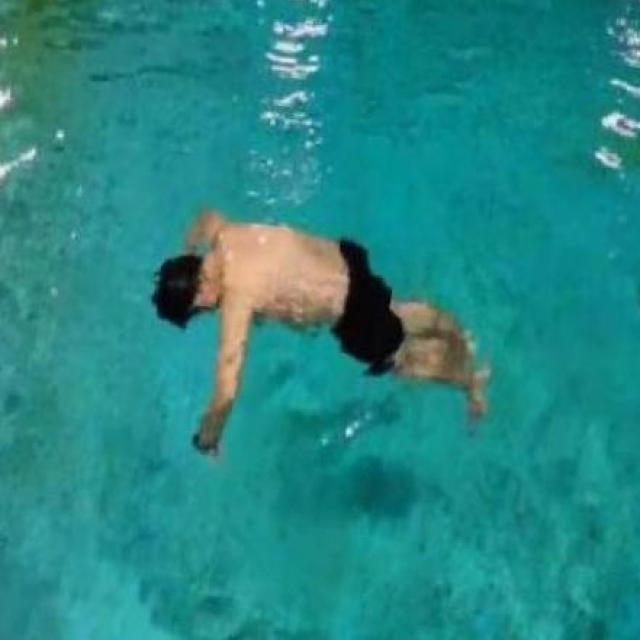Drowning: (154, 210, 486, 456)
